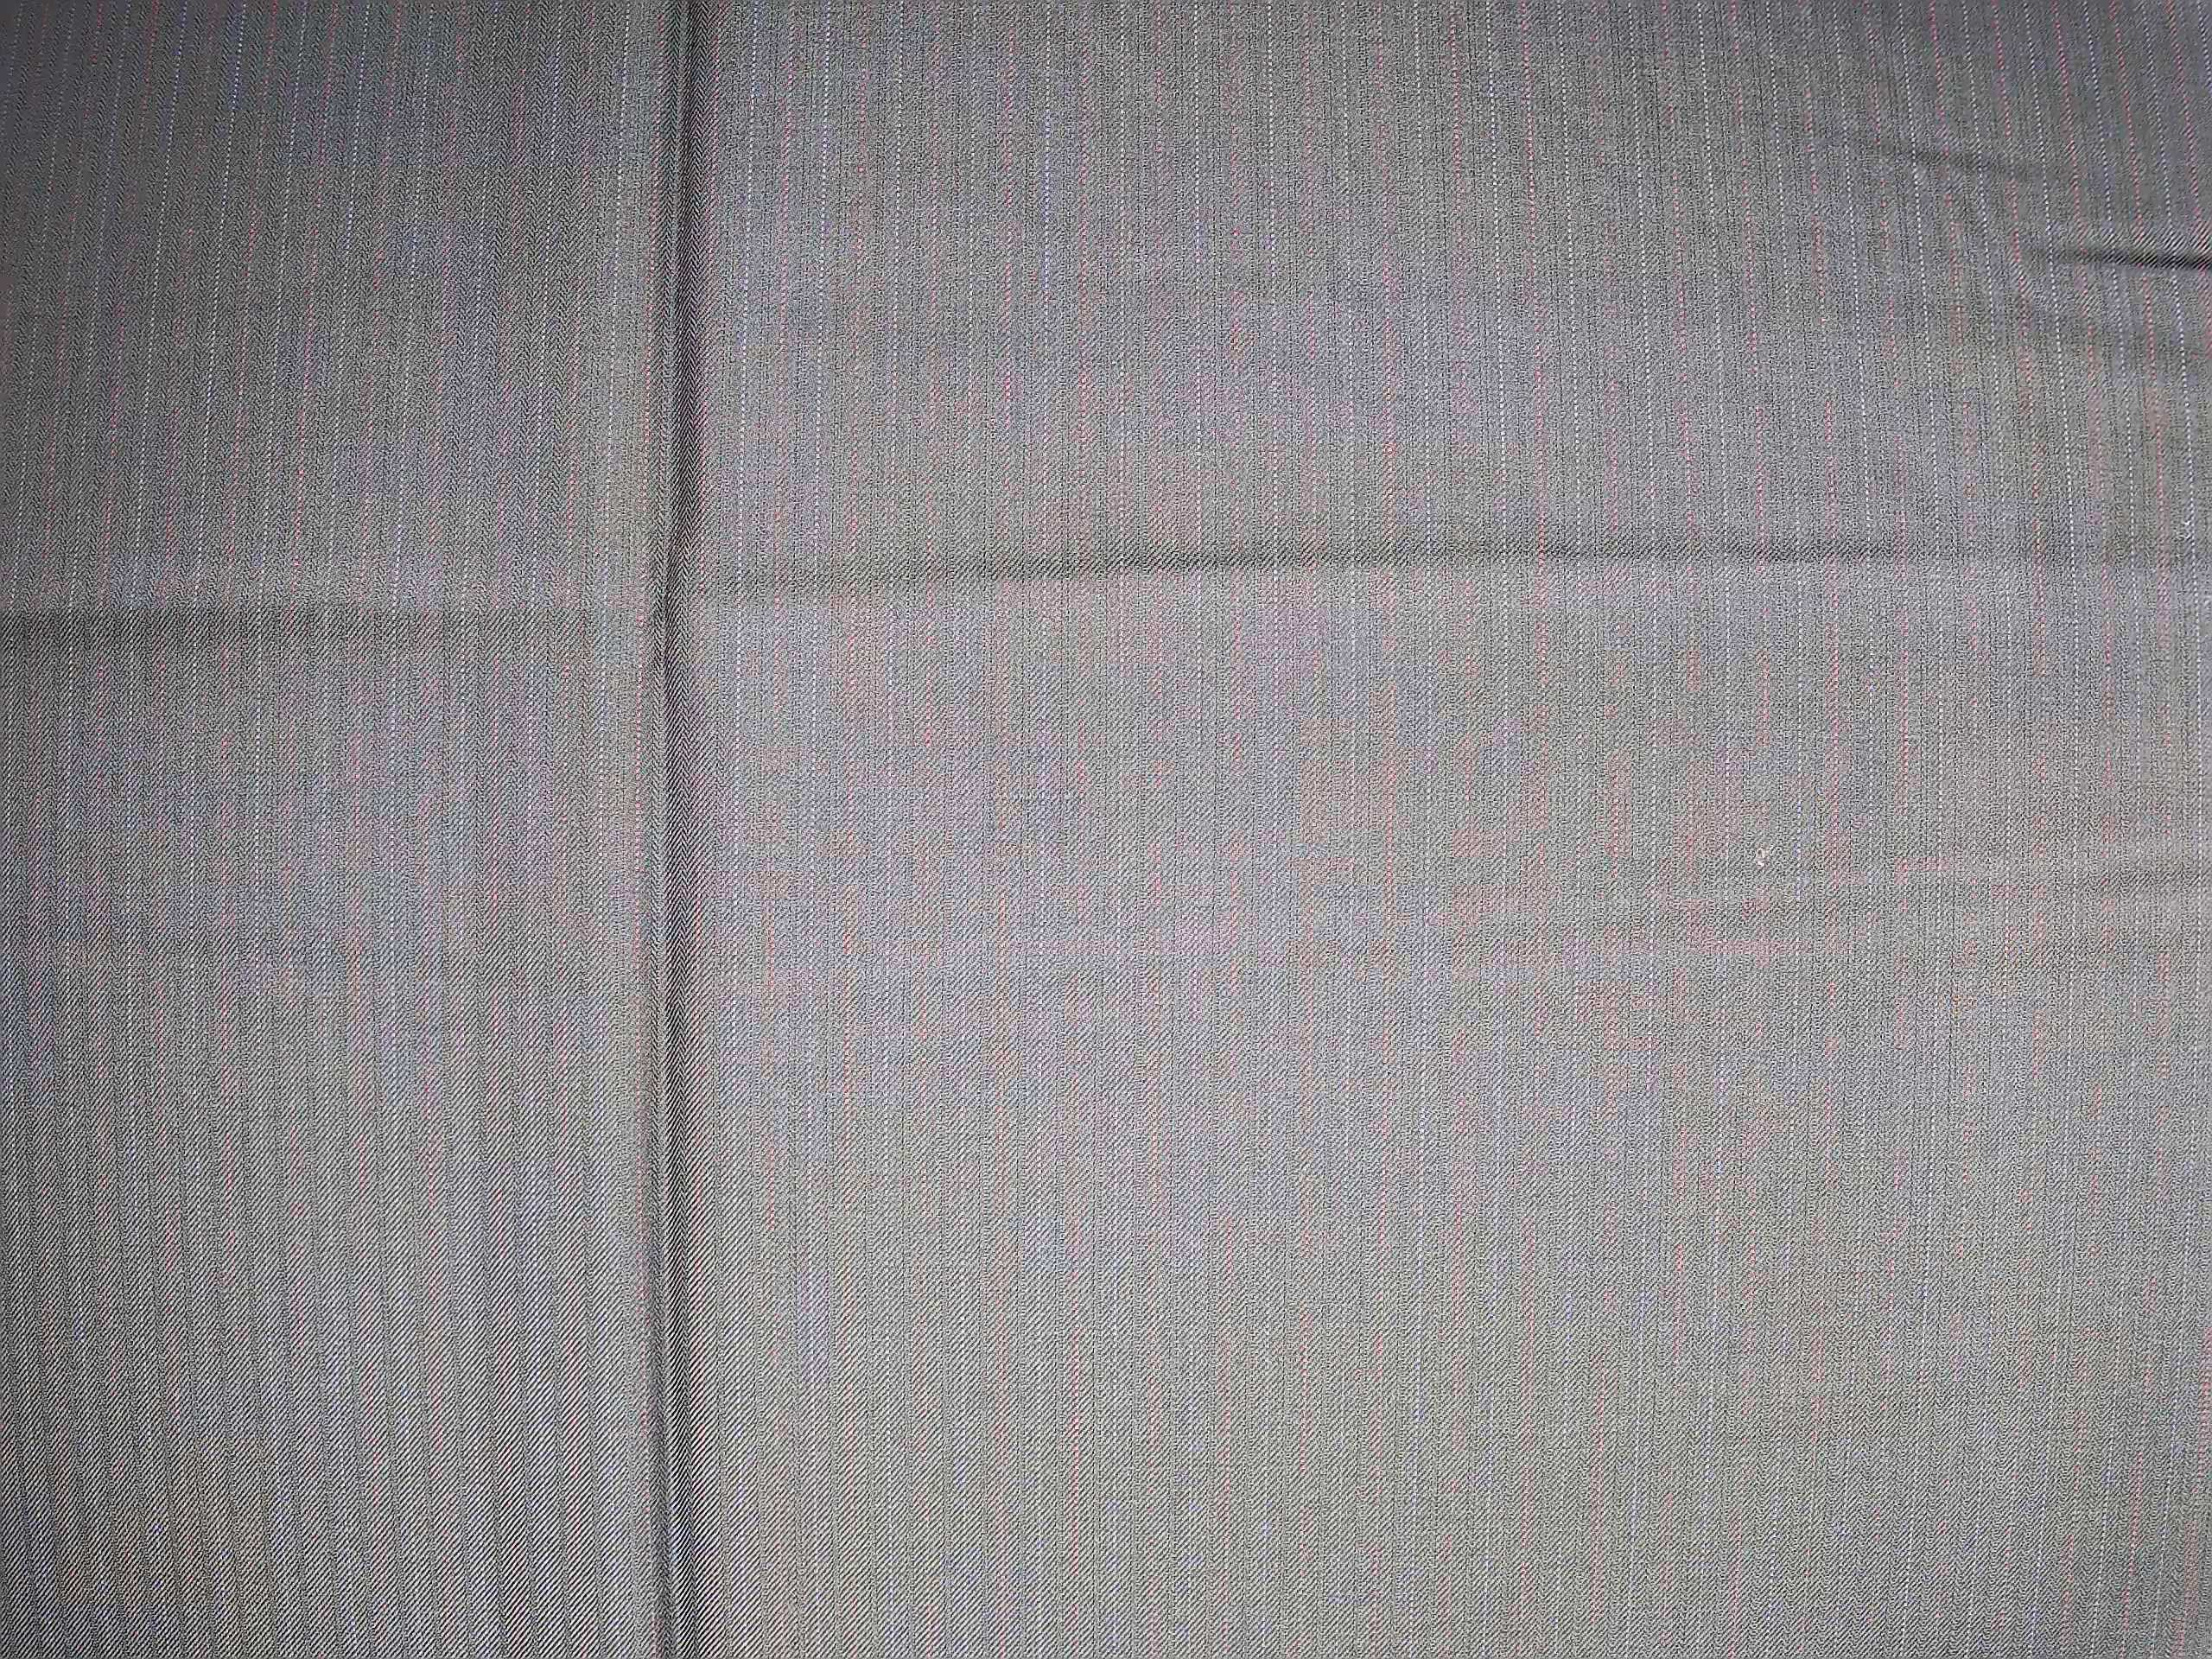others: (967, 774, 1106, 829)
